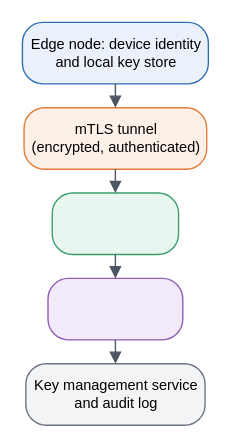
Image size: 232x448. Some labels were removed from this diagram. Here are the shapes that lost their labels. From the top down, the centre of each, then its label:
the point at 115,223: API gateway and access control
the point at 115,308: Encrypted storage (per-tenant keys)
